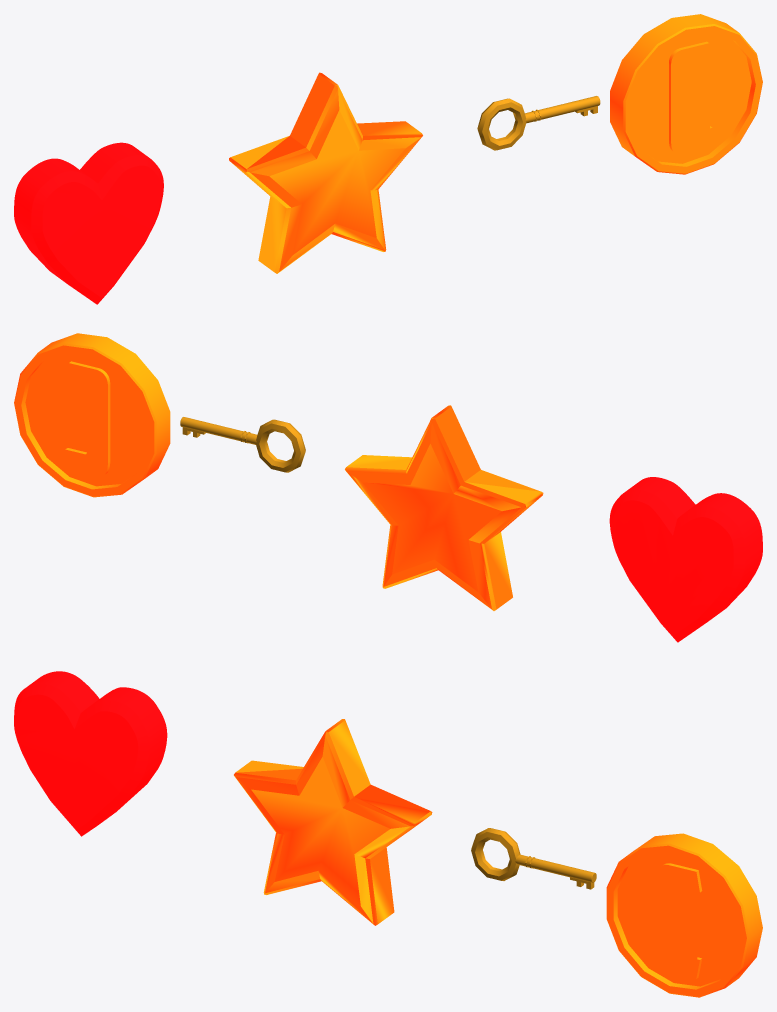
The picture shows the model from 3 angles, top to bottom: view 1: azimuth 30°, elevation 25°; view 2: azimuth 150°, elevation 25°; view 3: azimuth 330°, elevation 25°; orthographic projection. The views are drawn at different scales.
Parts seen in each view (by area): view 1: Extrude_2, MoText, Extrude, Cube_1; view 2: Extrude_2, MoText, Extrude, Cube_1; view 3: Extrude_2, MoText, Extrude, Cube_1.
Part boxes in pixels (left/top/right/bottom): Extrude_2: left=229, top=72, right=422, bottom=273; MoText: left=610, top=14, right=762, bottom=174; Extrude: left=14, top=142, right=163, bottom=304; Cube_1: left=477, top=96, right=600, bottom=150; Extrude_2: left=345, top=405, right=543, bottom=610; MoText: left=14, top=333, right=170, bottom=497; Extrude: left=609, top=477, right=762, bottom=642; Cube_1: left=180, top=417, right=305, bottom=472; Extrude_2: left=234, top=719, right=432, bottom=925; MoText: left=606, top=833, right=762, bottom=997; Extrude: left=14, top=671, right=167, bottom=836; Cube_1: left=471, top=828, right=596, bottom=889.
Size of the model in its own units: 514 by 121 by 36.97.
